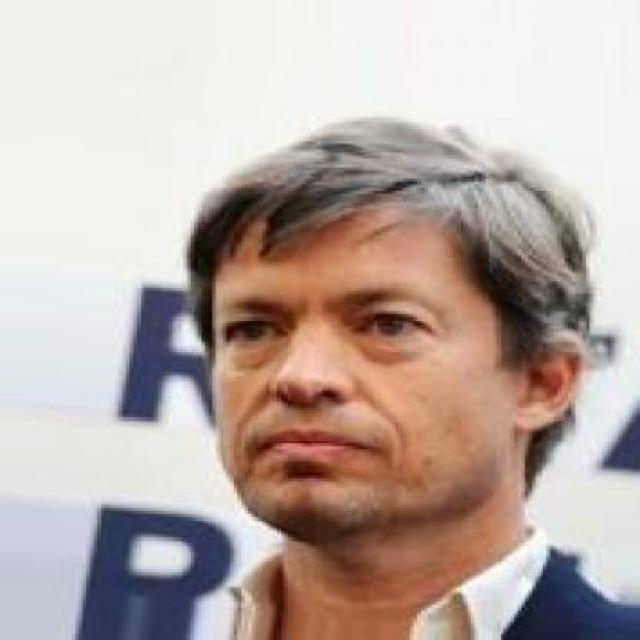closed-mouth: (258, 424, 382, 470)
